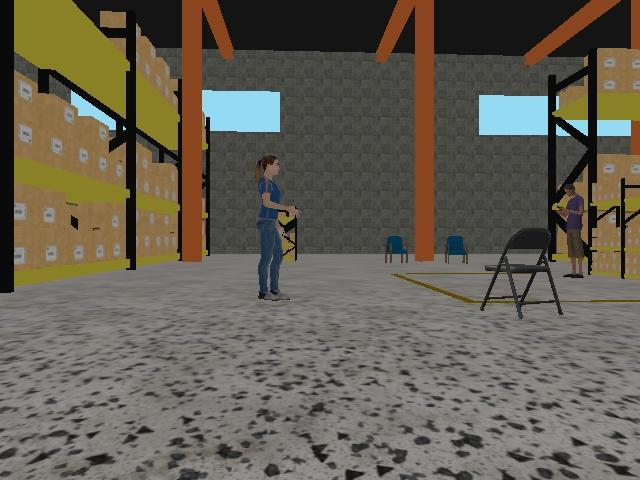chair: (480, 227, 564, 319), (444, 236, 469, 264), (384, 236, 409, 263)
person: (255, 154, 302, 301), (557, 184, 584, 279)
